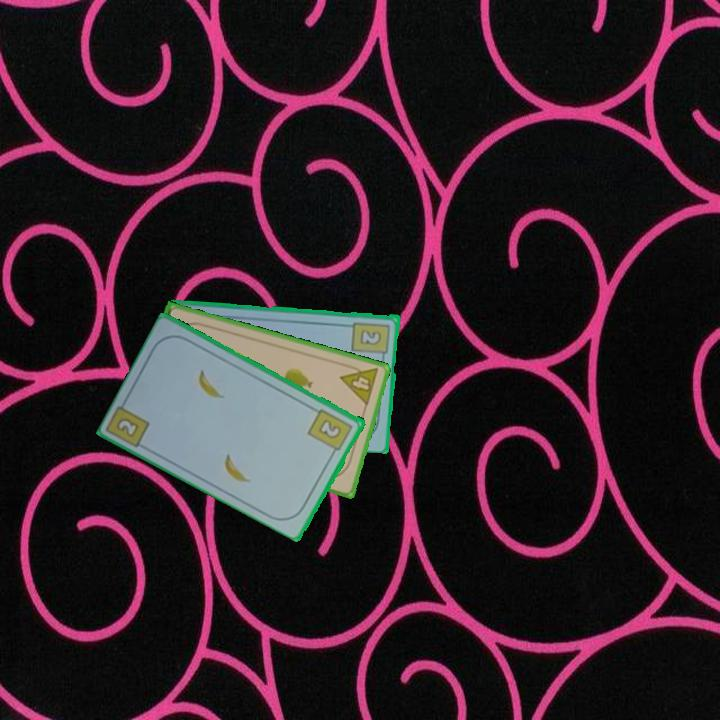2b: (305, 405, 356, 458), (349, 318, 393, 362), (112, 414, 142, 440)
4p: (337, 360, 382, 409)
